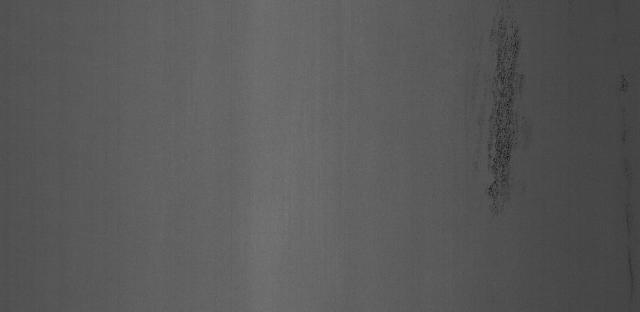inclusion: (469, 15, 544, 215)
